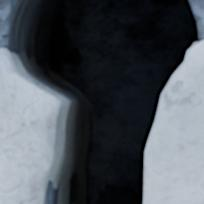broken_brick: (0, 50, 58, 203), (150, 39, 203, 203)
crack: (0, 0, 202, 203)
